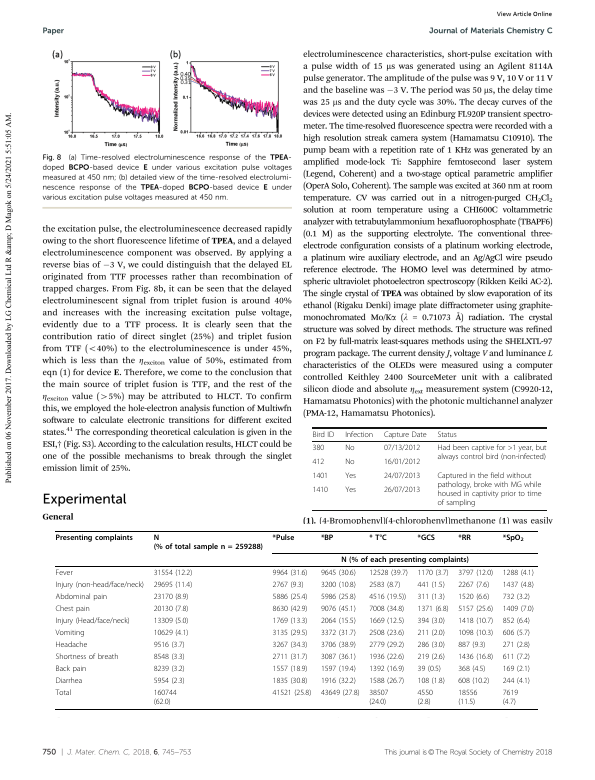borderless: (54, 529, 538, 709), (312, 426, 547, 510)
cell: (436, 471, 542, 508), (436, 443, 547, 462), (153, 533, 264, 551), (340, 555, 470, 565), (55, 580, 145, 590), (55, 616, 131, 626), (55, 533, 134, 542), (55, 652, 119, 662), (55, 592, 108, 602), (153, 688, 177, 706), (368, 568, 409, 578), (153, 568, 193, 578), (153, 580, 193, 590), (383, 430, 427, 439), (368, 592, 407, 602), (383, 443, 421, 453), (383, 457, 421, 467), (383, 471, 421, 481), (383, 485, 421, 495), (368, 688, 389, 706), (457, 688, 478, 706), (320, 568, 357, 578), (457, 568, 494, 578), (320, 580, 357, 590), (320, 592, 357, 602), (320, 604, 357, 614), (368, 604, 405, 614), (457, 604, 494, 614), (320, 616, 357, 626), (368, 616, 405, 626), (457, 616, 494, 626), (320, 628, 357, 638), (368, 628, 405, 638), (457, 628, 494, 638), (320, 640, 357, 650), (368, 640, 405, 650), (320, 652, 357, 662), (368, 652, 405, 662), (457, 652, 494, 662), (272, 568, 308, 578), (153, 592, 189, 602), (272, 592, 308, 602), (55, 604, 91, 614), (153, 604, 189, 614), (272, 604, 308, 614), (153, 616, 189, 626), (272, 616, 308, 626), (153, 628, 189, 638), (272, 628, 308, 638), (272, 640, 308, 650), (272, 652, 308, 662), (272, 688, 312, 697), (320, 688, 360, 697), (320, 664, 357, 673), (368, 664, 405, 673), (320, 676, 357, 685), (368, 676, 405, 685), (416, 568, 449, 578), (502, 568, 535, 578), (272, 580, 305, 590), (368, 580, 401, 590), (457, 580, 490, 590), (502, 580, 535, 590), (457, 592, 490, 602), (416, 604, 449, 614), (502, 604, 535, 614), (55, 640, 88, 650), (153, 640, 186, 650), (153, 652, 186, 662), (272, 664, 308, 673), (272, 676, 308, 685), (416, 688, 434, 706), (502, 688, 519, 706), (416, 580, 446, 590), (416, 592, 446, 602), (416, 616, 446, 626), (55, 628, 85, 638), (416, 628, 446, 638), (416, 640, 446, 650), (416, 652, 446, 662), (153, 664, 186, 673), (153, 676, 186, 685), (457, 676, 490, 685), (502, 592, 531, 602), (502, 616, 531, 626), (502, 628, 531, 638), (457, 640, 486, 650), (502, 640, 531, 650), (502, 652, 531, 662), (55, 664, 87, 673), (416, 676, 446, 685), (344, 430, 374, 439), (457, 664, 486, 673), (502, 664, 531, 673), (502, 676, 531, 685), (55, 676, 83, 685), (416, 664, 442, 673), (502, 533, 525, 543), (272, 533, 295, 542), (312, 430, 335, 439), (436, 430, 458, 439), (55, 568, 74, 578), (368, 533, 388, 542), (416, 533, 436, 542), (312, 471, 329, 481), (312, 485, 329, 495), (55, 688, 72, 697), (457, 533, 472, 542), (312, 443, 325, 453), (312, 457, 325, 467), (344, 471, 357, 481), (344, 485, 357, 495), (320, 533, 334, 542), (344, 443, 355, 453), (344, 457, 355, 467)
